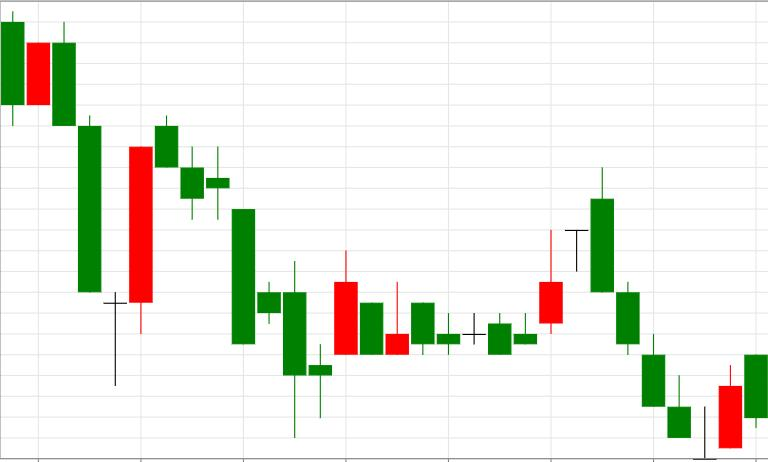morning_star_rise: (1, 12, 152, 386)
three_black_crows_fall: (438, 166, 665, 407)
